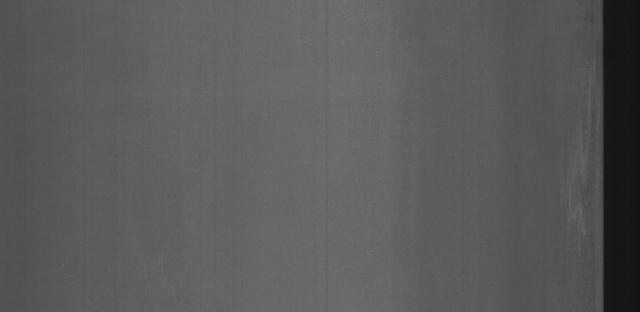silk_spot: (566, 83, 600, 249)
